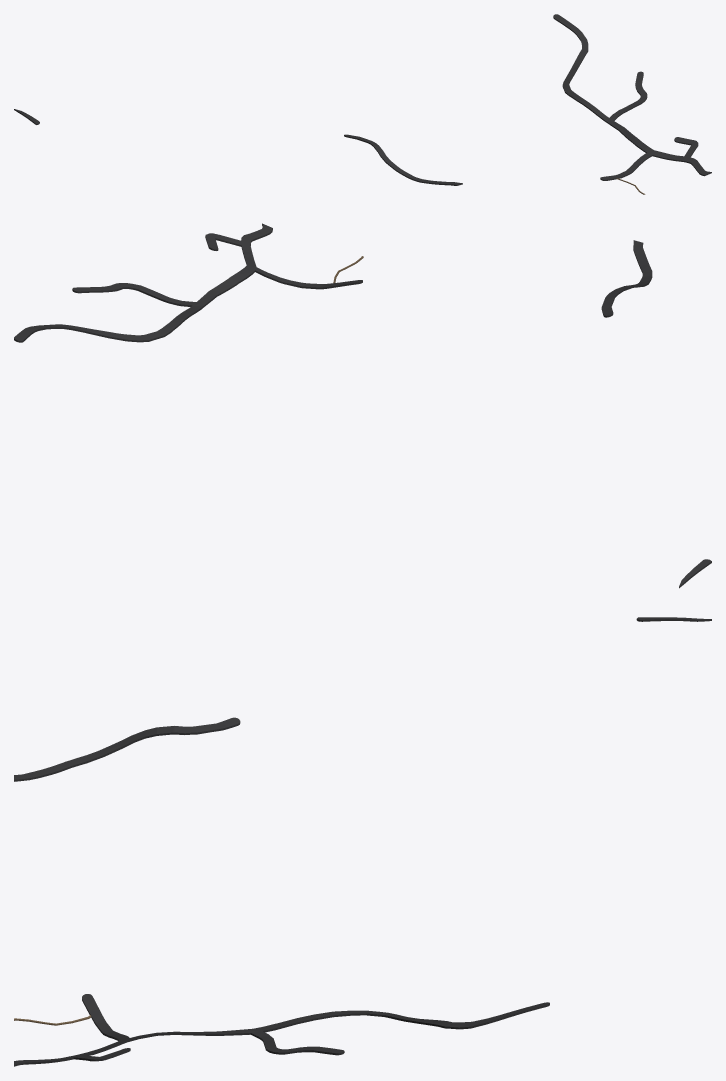
The picture shows the model from 3 angles, top to bottom: view 1: azimuth 30°, elevation 25°; view 2: azimuth 150°, elevation 25°; view 3: azimuth 270°, elevation 25°; orthographic projection. The views are drawn at different scales.
Size of the model in its own units: 567 by 73.45 by 398.
